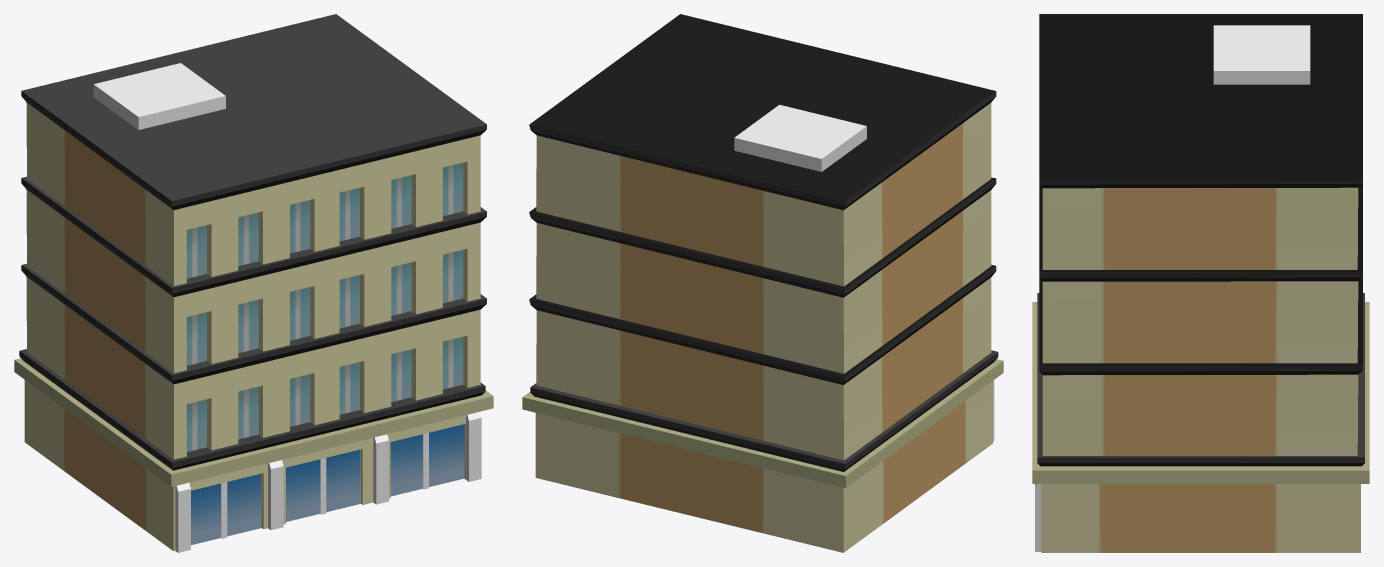
The model's file is French Stack House 3.fbx.
3 views of the same model, side by side, from view 1: azimuth 30°, elevation 25°; view 2: azimuth 150°, elevation 25°; view 3: azimuth 270°, elevation 25° (orthographic). The views are drawn at different scales.
Visible parts, largest first — view 1: French Stack House 3; view 2: French Stack House 3; view 3: French Stack House 3.
Part boxes in pixels (<box>): French Stack House 3: <box>14,14,493,552</box>; French Stack House 3: <box>522,14,1003,552</box>; French Stack House 3: <box>1032,14,1369,552</box>.
Size of the model in its own units: 4.19 by 4.53 by 3.54.
